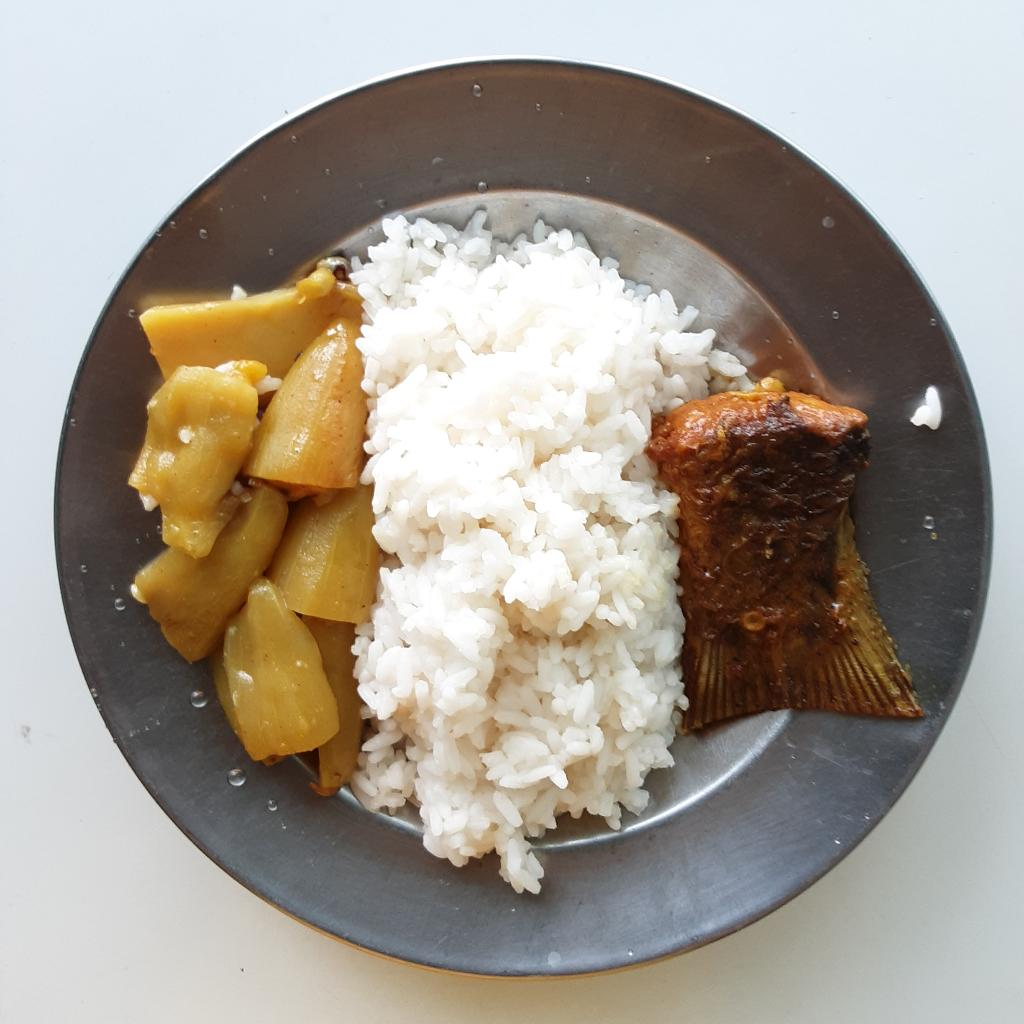fish: (655, 386, 925, 738)
potato: (135, 265, 360, 396)
potol: (125, 325, 378, 788)
rice: (351, 204, 753, 891)
